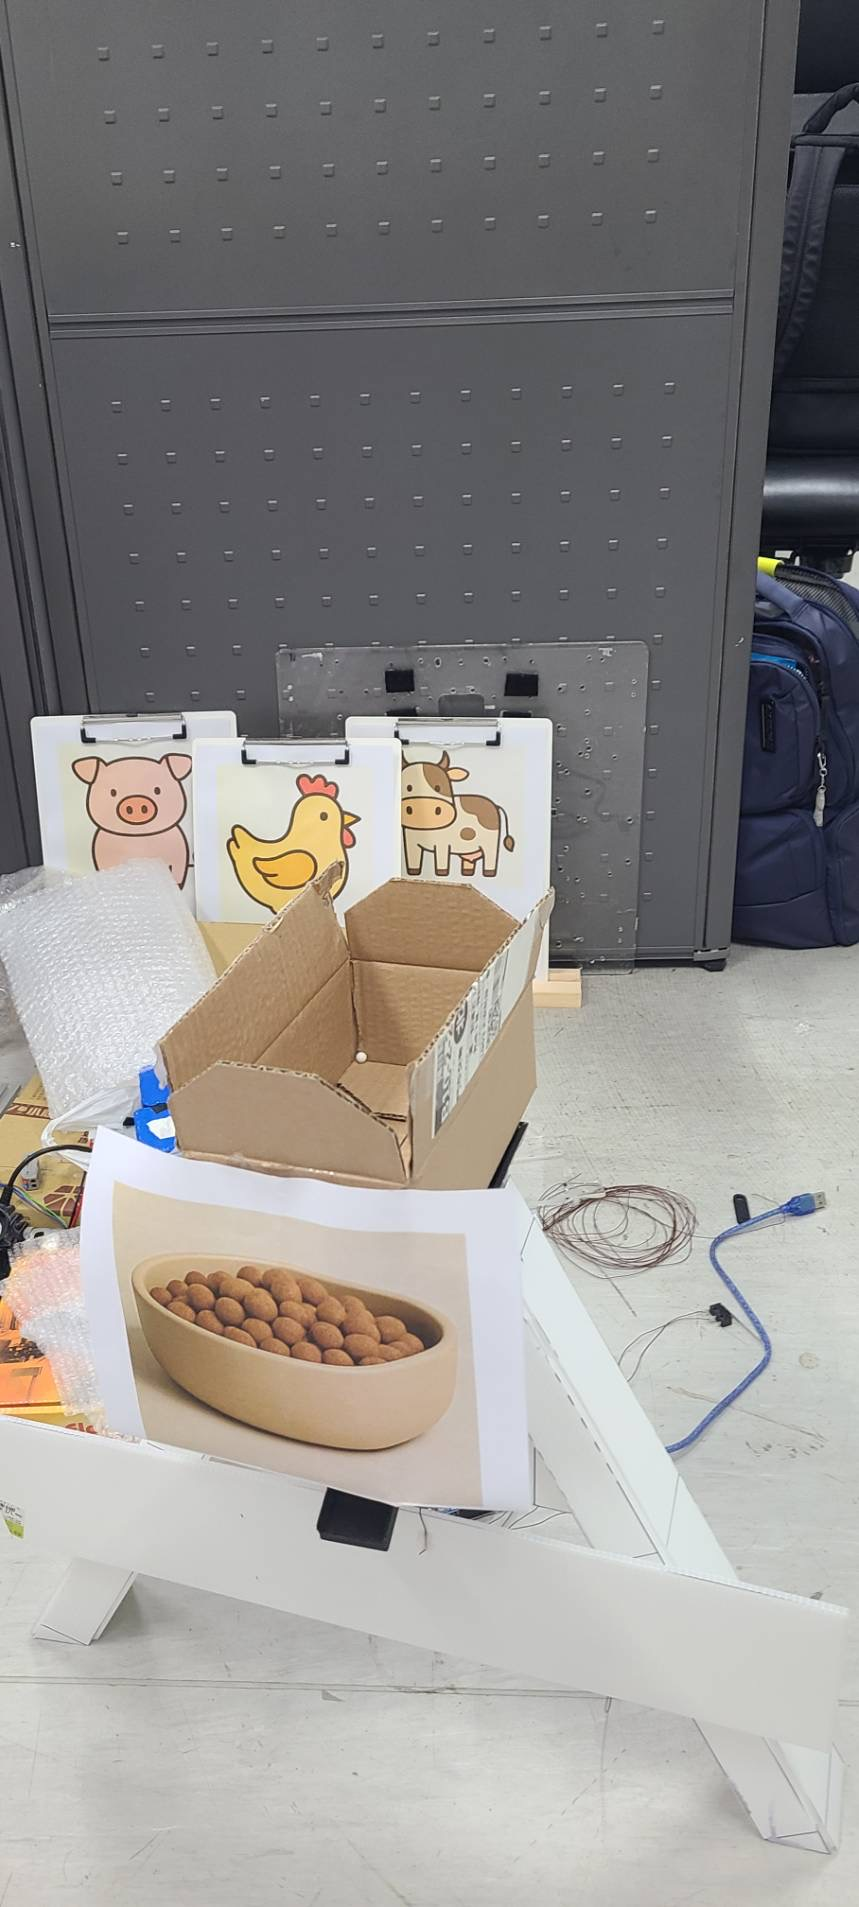chick: (220, 780, 375, 905)
